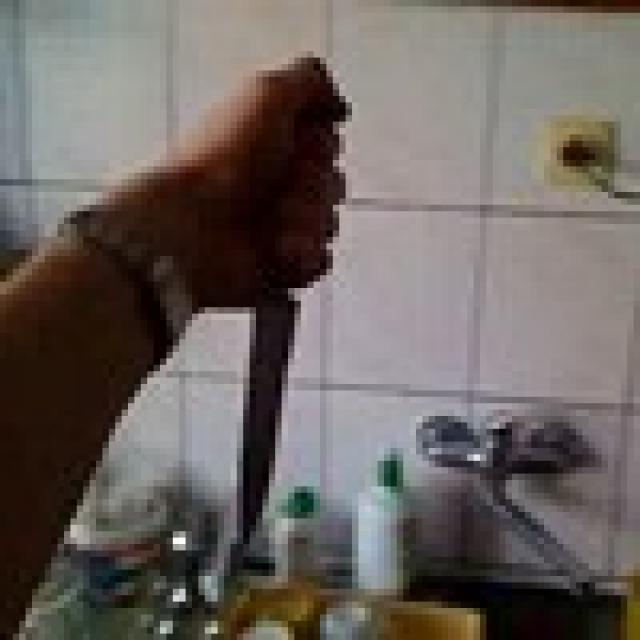weapon: (224, 58, 358, 538)
